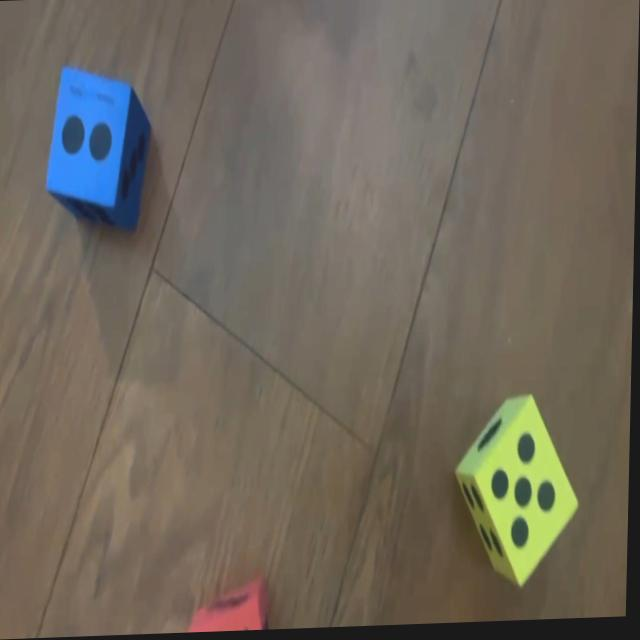blue_block: (48, 66, 151, 225)
red_block: (194, 578, 275, 634)
